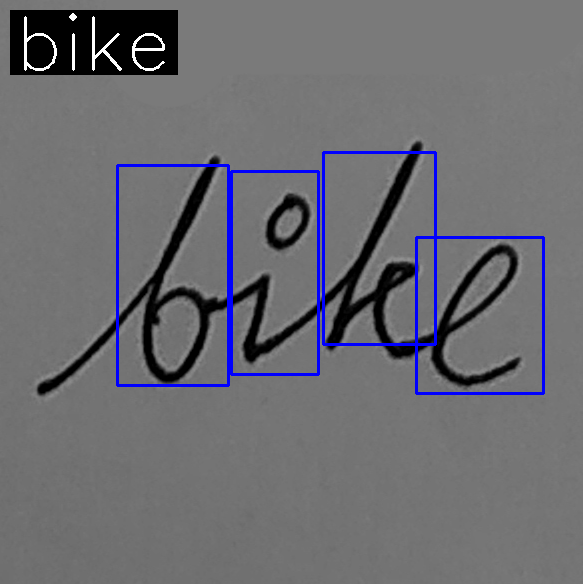b: (134, 152, 224, 388)
e: (428, 237, 528, 390)
i: (236, 190, 313, 364)
k: (319, 136, 424, 365)
